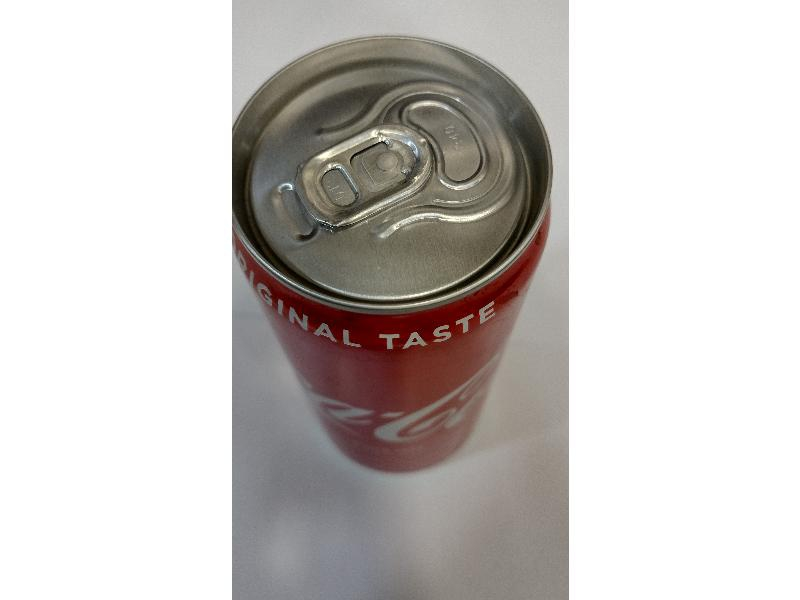can: (232, 32, 555, 473)
